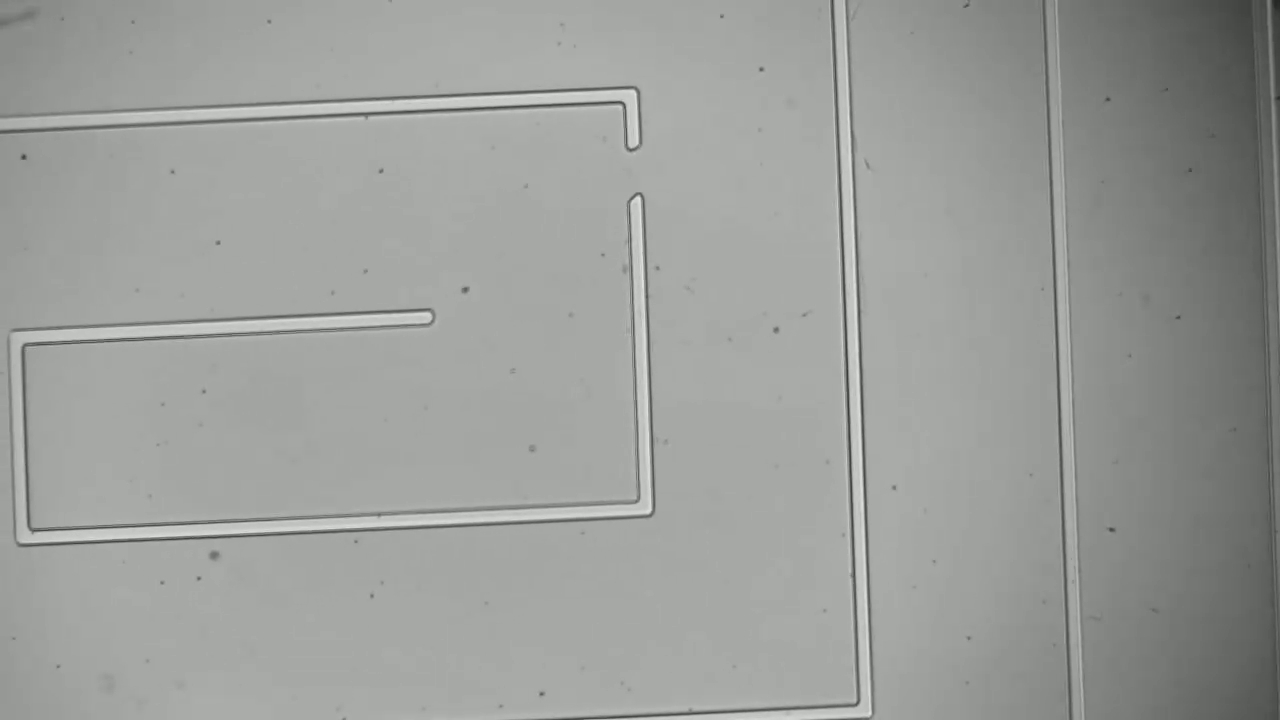open: (600, 117, 661, 226)
